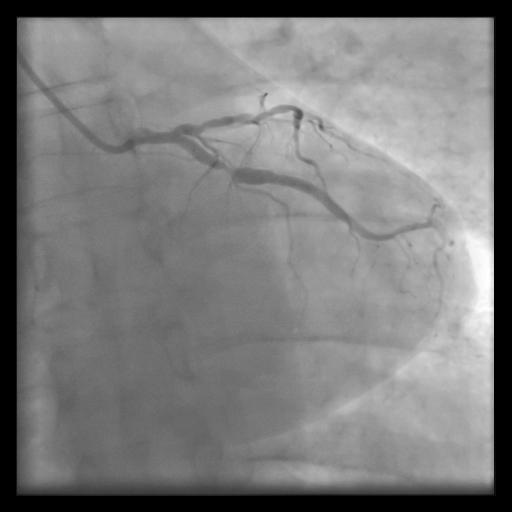Stenosis: (213, 153, 242, 189)
